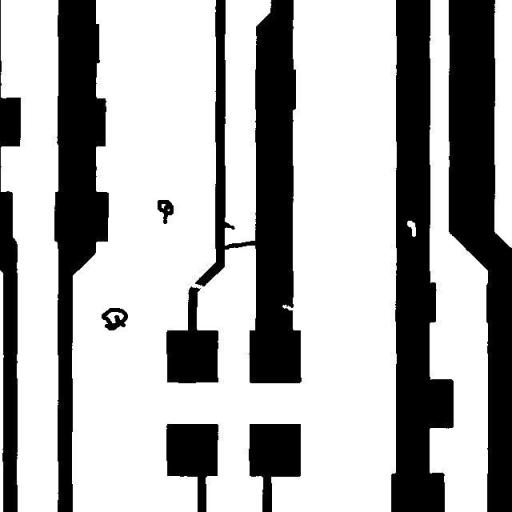copper: (94, 300, 135, 338), (150, 192, 180, 231)
mousebite: (274, 296, 301, 318)
open: (182, 274, 213, 298)
pin-hole: (399, 213, 423, 244)
short: (214, 233, 264, 257)
spur: (212, 214, 242, 236)
